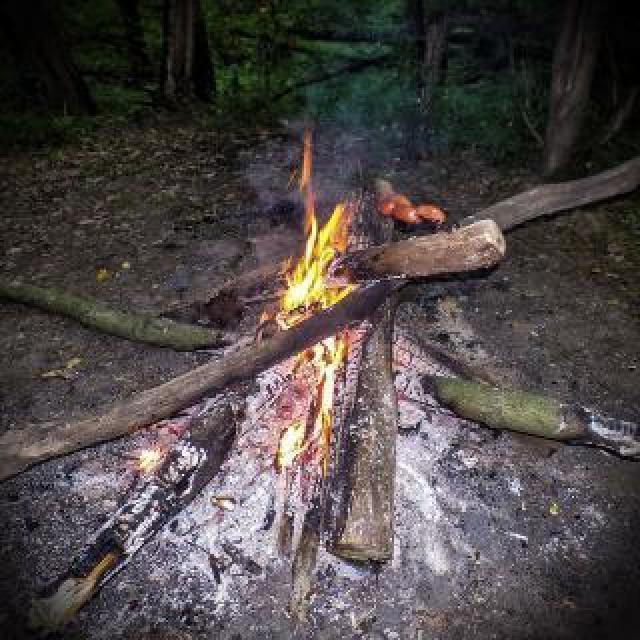Fire: (272, 116, 370, 462)
